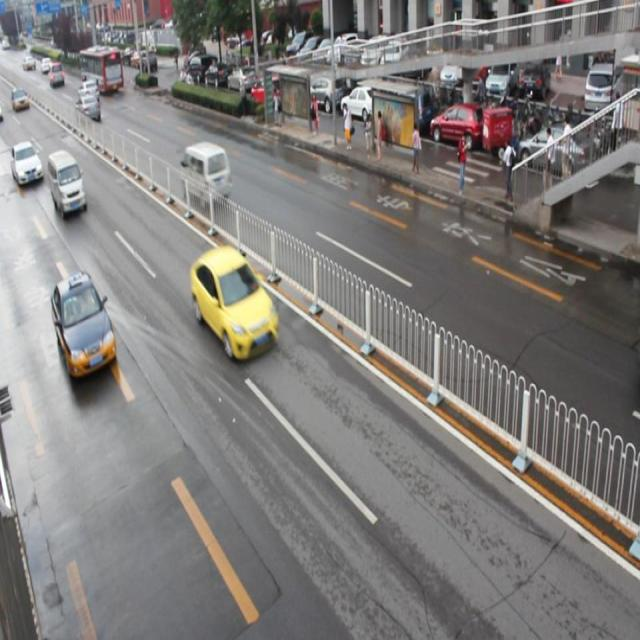car: (190, 247, 279, 359), (50, 272, 117, 376), (11, 141, 43, 187)
truck: (180, 142, 232, 206), (48, 150, 87, 219)
